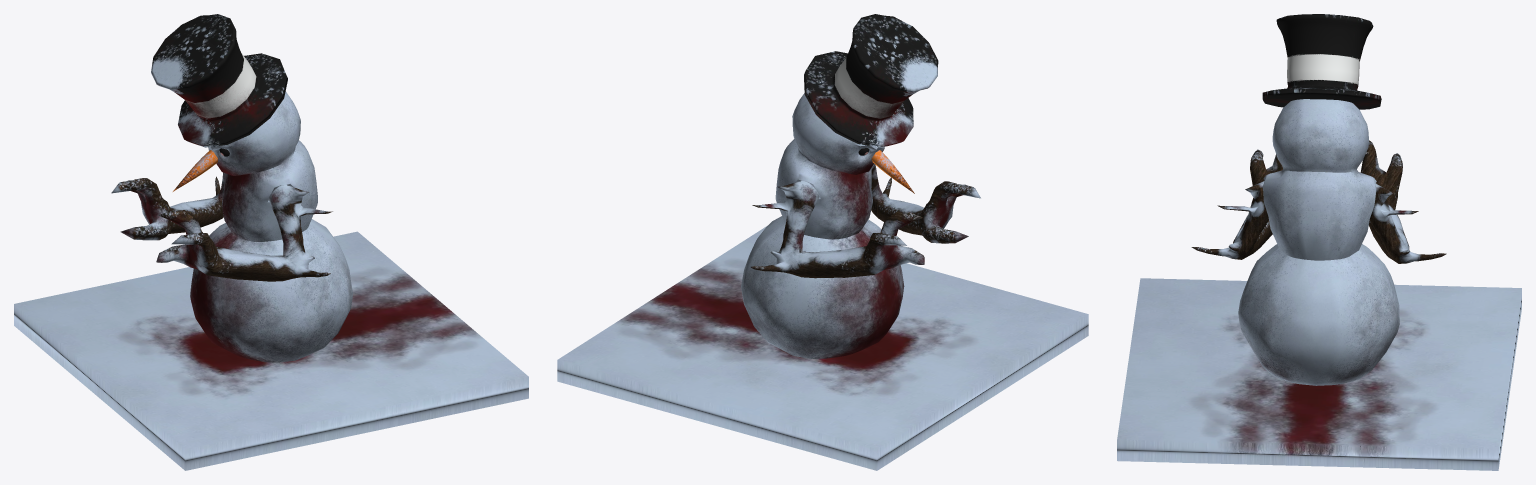
The model's file is dmuñecodenieve_lev5.glb.
The picture shows the model from 3 angles, left to right: view 1: azimuth 30°, elevation 25°; view 2: azimuth 150°, elevation 25°; view 3: azimuth 270°, elevation 25°; orthographic projection.
Parts seen in each view (by area): view 1: Pavimento1, SnowMan1, Cappello1, Braccia_e__Mani1, Carota1; view 2: Pavimento1, SnowMan1, Cappello1, Braccia_e__Mani1; view 3: Pavimento1, SnowMan1, Cappello1, Braccia_e__Mani1.
Boxes of the visible parts, left/top/right/bottom form: Pavimento1: left=14, top=231, right=528, bottom=470; SnowMan1: left=190, top=91, right=352, bottom=362; Cappello1: left=151, top=14, right=287, bottom=147; Braccia_e__Mani1: left=111, top=172, right=332, bottom=281; Carota1: left=173, top=150, right=217, bottom=191; Pavimento1: left=557, top=225, right=1088, bottom=470; SnowMan1: left=741, top=93, right=904, bottom=358; Cappello1: left=804, top=14, right=938, bottom=147; Braccia_e__Mani1: left=750, top=163, right=980, bottom=278; Pavimento1: left=1117, top=278, right=1521, bottom=470; SnowMan1: left=1238, top=99, right=1399, bottom=385; Cappello1: left=1262, top=14, right=1381, bottom=109; Braccia_e__Mani1: left=1191, top=140, right=1446, bottom=263.
Size of the model in its own units: 52.33 by 50.07 by 52.33.
6 materials, 6 textured.
